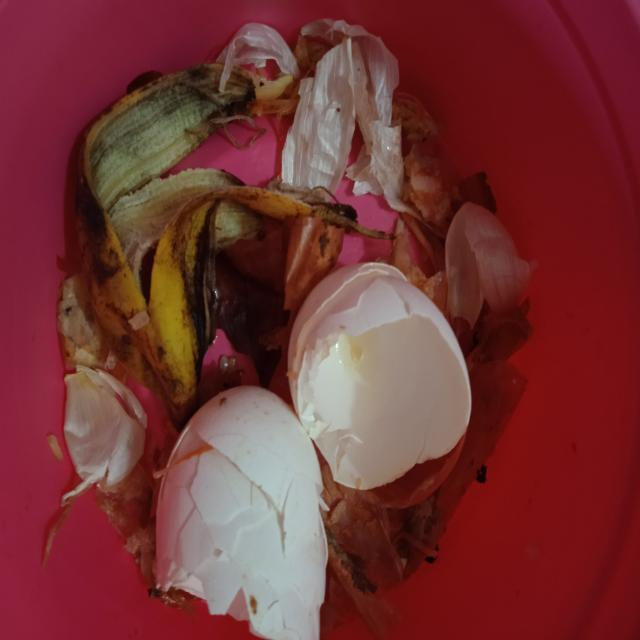egg shell: (154, 388, 330, 640), (286, 262, 472, 488)
